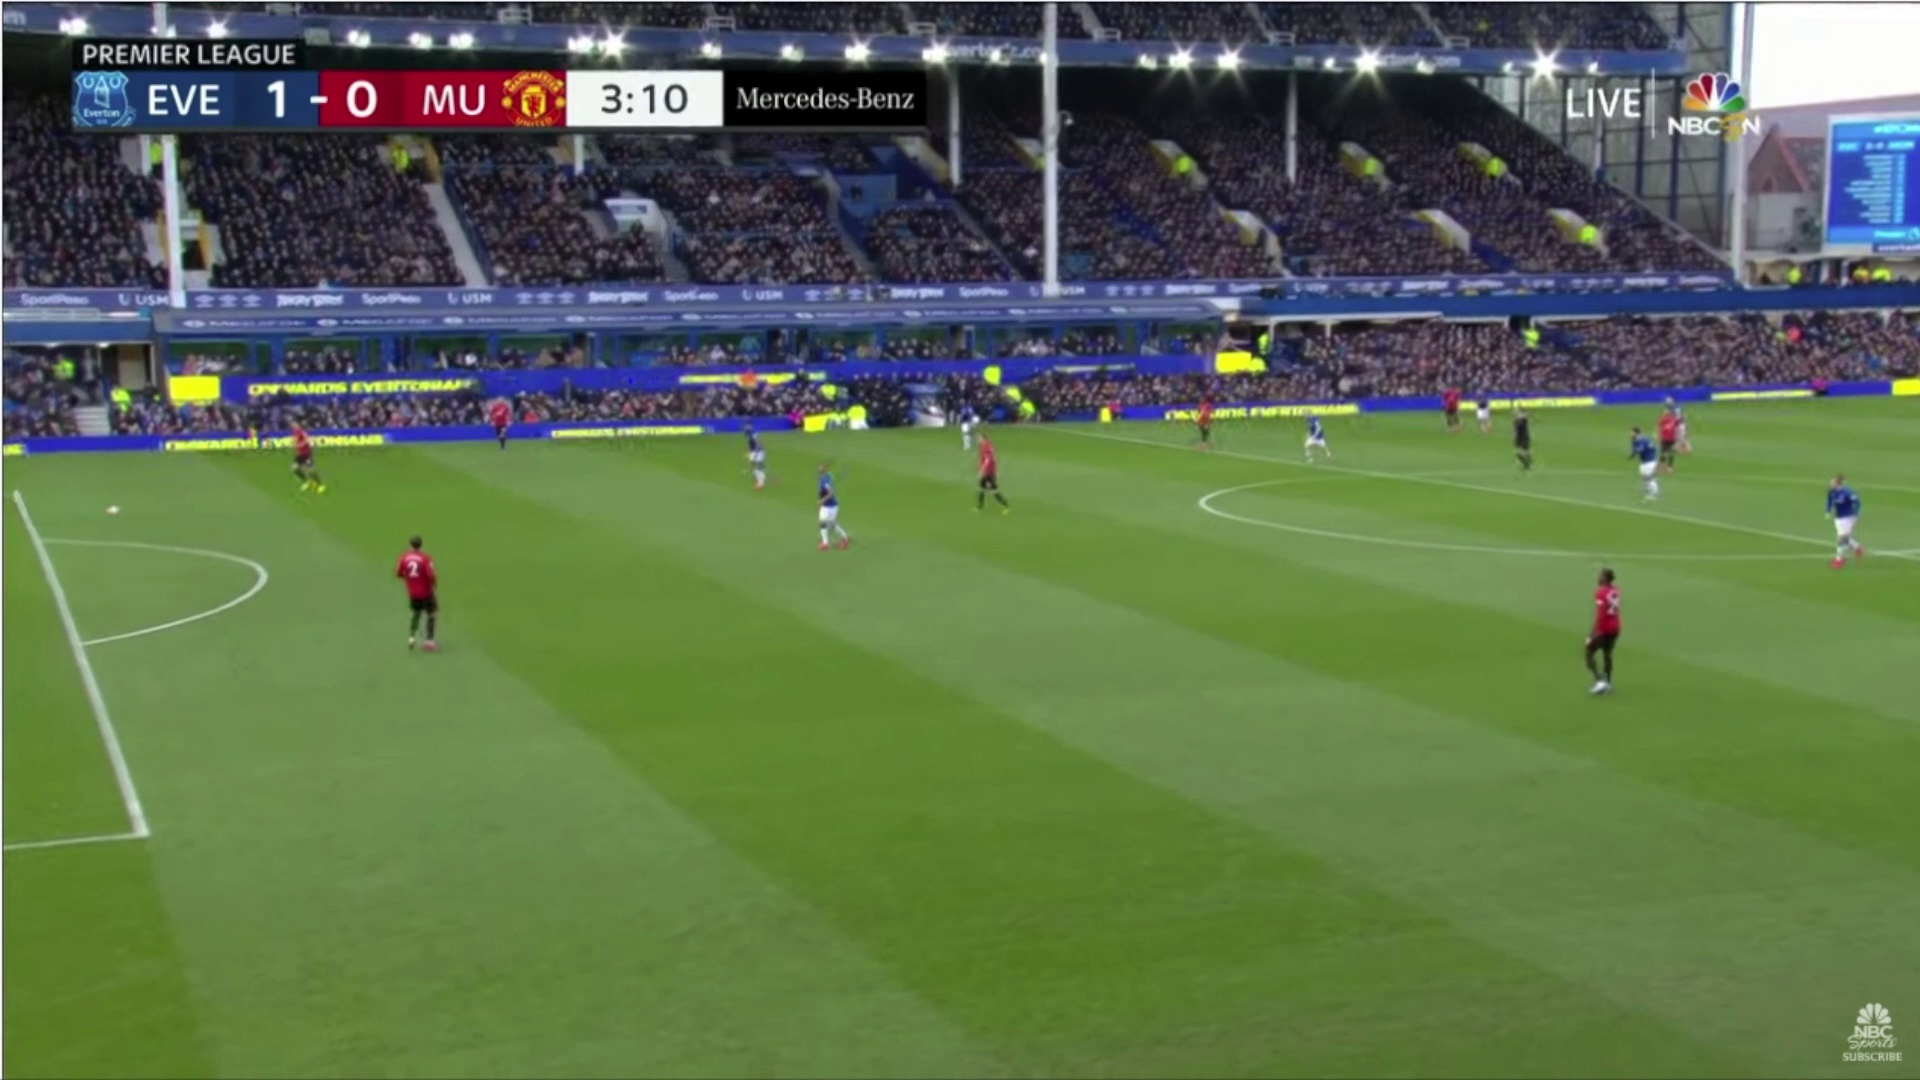ball: (100, 494, 127, 523)
player: (381, 531, 462, 662), (1577, 552, 1641, 704), (1814, 454, 1875, 585), (275, 410, 339, 502), (804, 454, 856, 565), (966, 427, 1024, 517), (1289, 400, 1349, 483), (1618, 419, 1664, 512), (733, 423, 785, 494), (1664, 385, 1702, 460), (1191, 383, 1227, 460), (1650, 402, 1681, 467), (483, 392, 518, 448), (945, 394, 979, 454), (1437, 371, 1466, 437), (1466, 377, 1493, 431)
